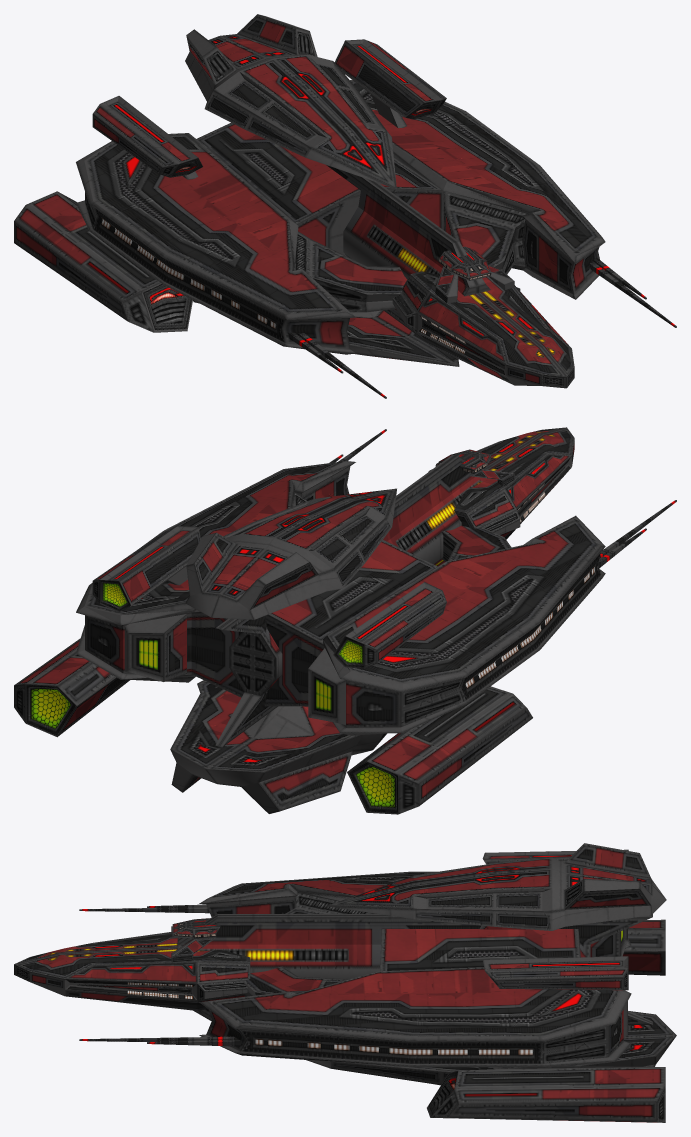
Rendered from BFP_LargeStarship02.FBX.
3 views of the same model, one above another, from view 1: azimuth 30°, elevation 25°; view 2: azimuth 150°, elevation 25°; view 3: azimuth 270°, elevation 25° (orthographic). The views are drawn at different scales.
Visible parts, largest first — view 1: MainHullSection, WingShield_Upper, ForwardHullSection, StrutEngine_LowerRight, HullConnector, StrutEngine_UpperLeft, StrutEngine_UpperRight, WingShield_Lower, Bridge, Antennas; view 2: MainHullSection, WingShield_Upper, WingShield_Lower, StrutEngine_LowerRight, HullConnector, ForwardHullSection, StrutEngine_LowerLeft, StrutEngine_UpperLeft, StrutEngine_UpperRight, RearEngine_Left, RearEngine_Right, Antennas (+1 smaller); view 3: MainHullSection, WingShield_Upper, StrutEngine_LowerLeft, ForwardHullSection, HullConnector, StrutEngine_UpperLeft, WingShield_Lower, StrutEngine_LowerRight, Antennas, Bridge, StrutEngine_UpperRight, RearEngine_Right.
Part boxes in pixels (x1,y1,x2,y2): MainHullSection: (76,80,605,354); WingShield_Upper: (185,14,396,188); ForwardHullSection: (392,271,574,388); StrutEngine_LowerRight: (14,191,192,332); HullConnector: (326,165,490,360); StrutEngine_UpperLeft: (334,39,446,128); StrutEngine_UpperRight: (92,96,202,179); WingShield_Lower: (193,300,459,366); Bridge: (435,246,514,303); Antennas: (288,257,676,398); MainHullSection: (76,461,605,735); WingShield_Upper: (185,488,396,619); WingShield_Lower: (170,680,386,813); StrutEngine_LowerRight: (347,686,532,814); HullConnector: (215,454,487,747); ForwardHullSection: (428,427,574,539); StrutEngine_LowerLeft: (14,638,129,737); StrutEngine_UpperLeft: (92,526,200,611); StrutEngine_UpperRight: (333,582,446,668); RearEngine_Left: (124,614,186,681); RearEngine_Right: (308,648,345,725); Antennas: (329,429,676,567); MainHullSection: (199,871,631,1067); WingShield_Upper: (326,843,666,930); StrutEngine_LowerLeft: (427,1066,665,1122); ForwardHullSection: (14,932,250,1010); HullConnector: (177,914,652,1024); StrutEngine_UpperLeft: (482,956,628,990); WingShield_Lower: (306,1011,676,1085); StrutEngine_LowerRight: (623,919,665,975); Antennas: (79,904,242,1046); Bridge: (171,918,220,962); StrutEngine_UpperRight: (482,849,628,864); RearEngine_Right: (590,928,627,957).
Bounding box in the file's own units: 2471 × 1449 × 3814.
1 material, 1 textured.
